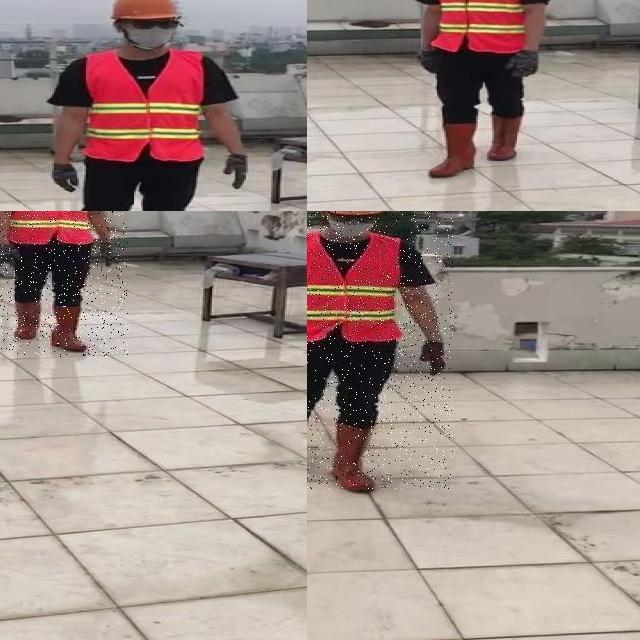BOOTS: (335, 422, 383, 494), (428, 120, 478, 177), (50, 306, 93, 352), (489, 114, 525, 160), (14, 301, 42, 339)
GLASS: (119, 19, 182, 31), (330, 214, 376, 224)
GLOVE: (223, 149, 251, 192), (505, 47, 542, 79), (51, 160, 82, 194), (419, 342, 446, 375), (418, 49, 448, 74), (100, 240, 117, 266), (0, 243, 17, 267)
HELMET: (105, 0, 183, 23)
VEST: (83, 51, 206, 160), (307, 235, 405, 341), (428, 0, 526, 53), (6, 211, 94, 246)
